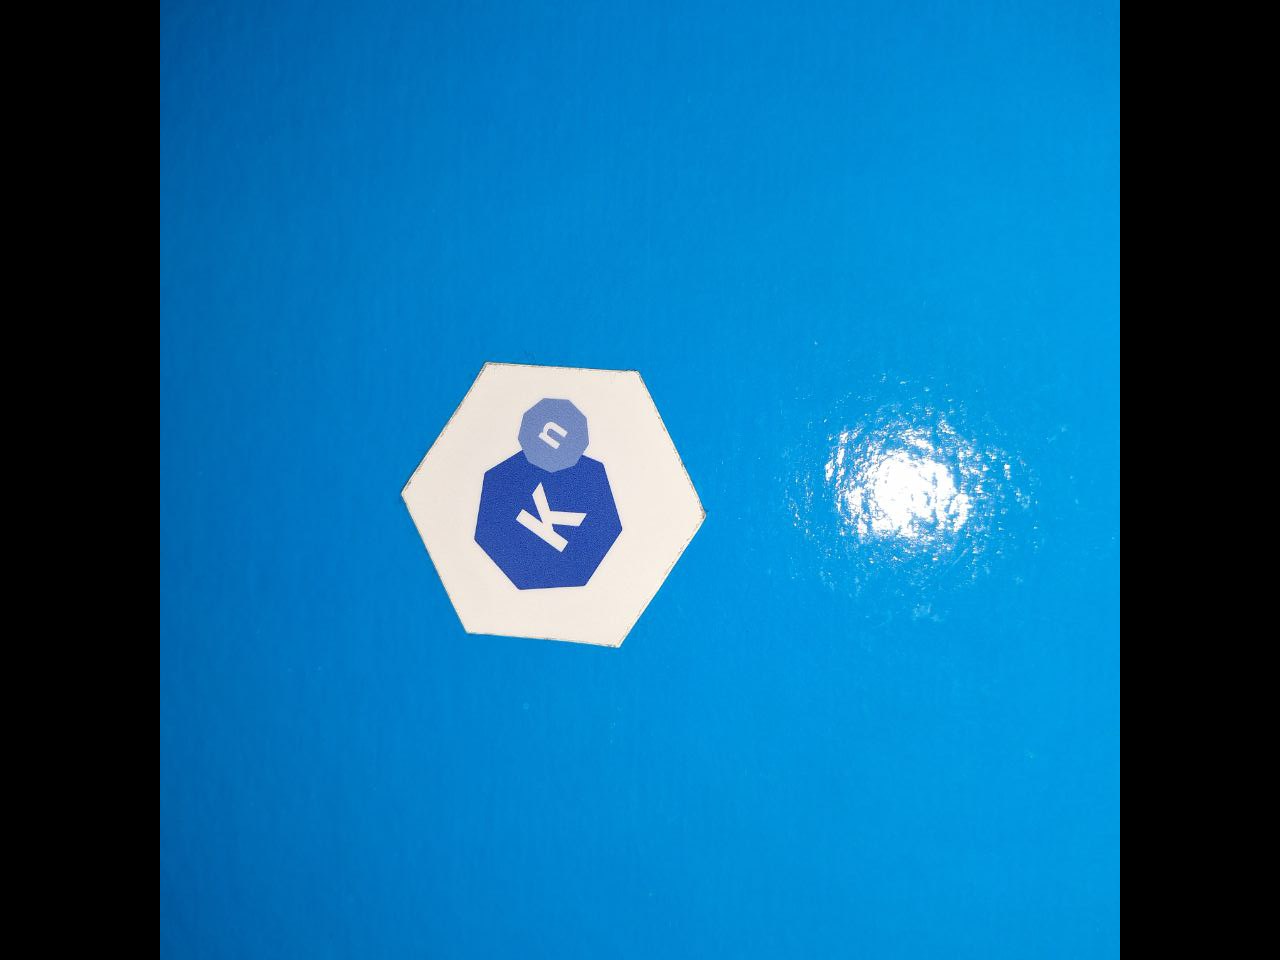knative: (469, 397, 624, 592)
